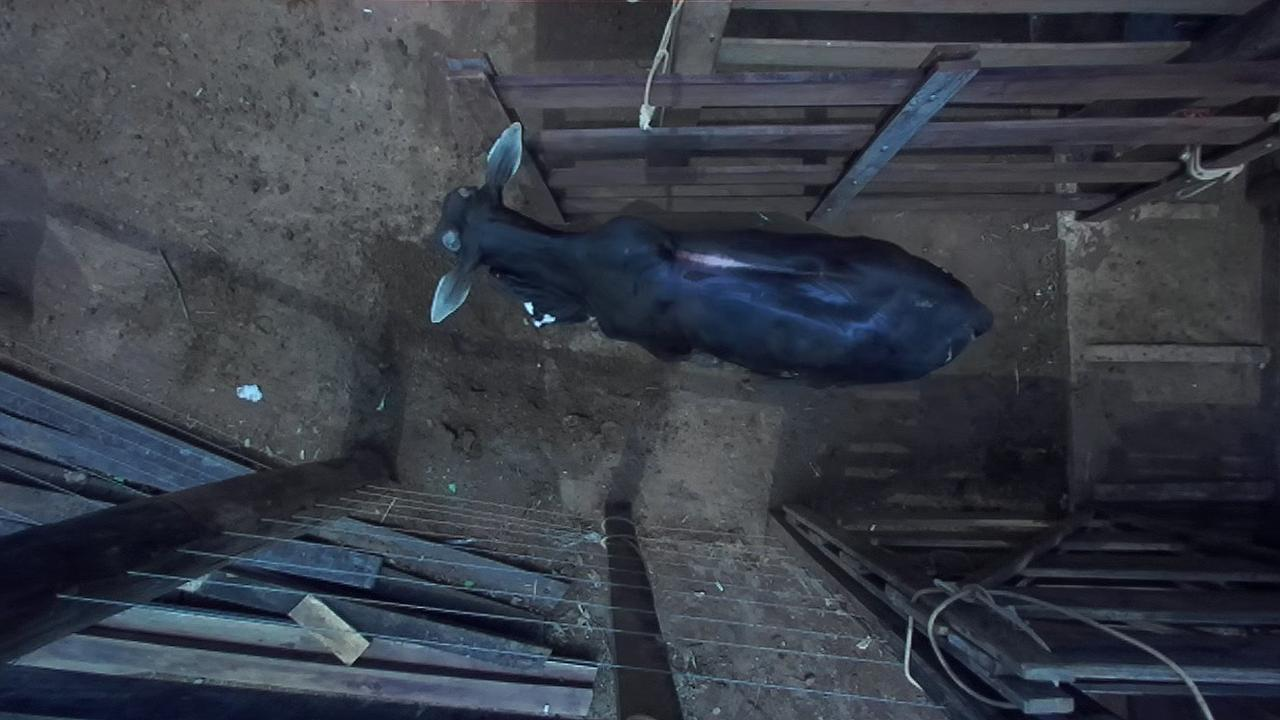cattle: (429, 120, 995, 385)
